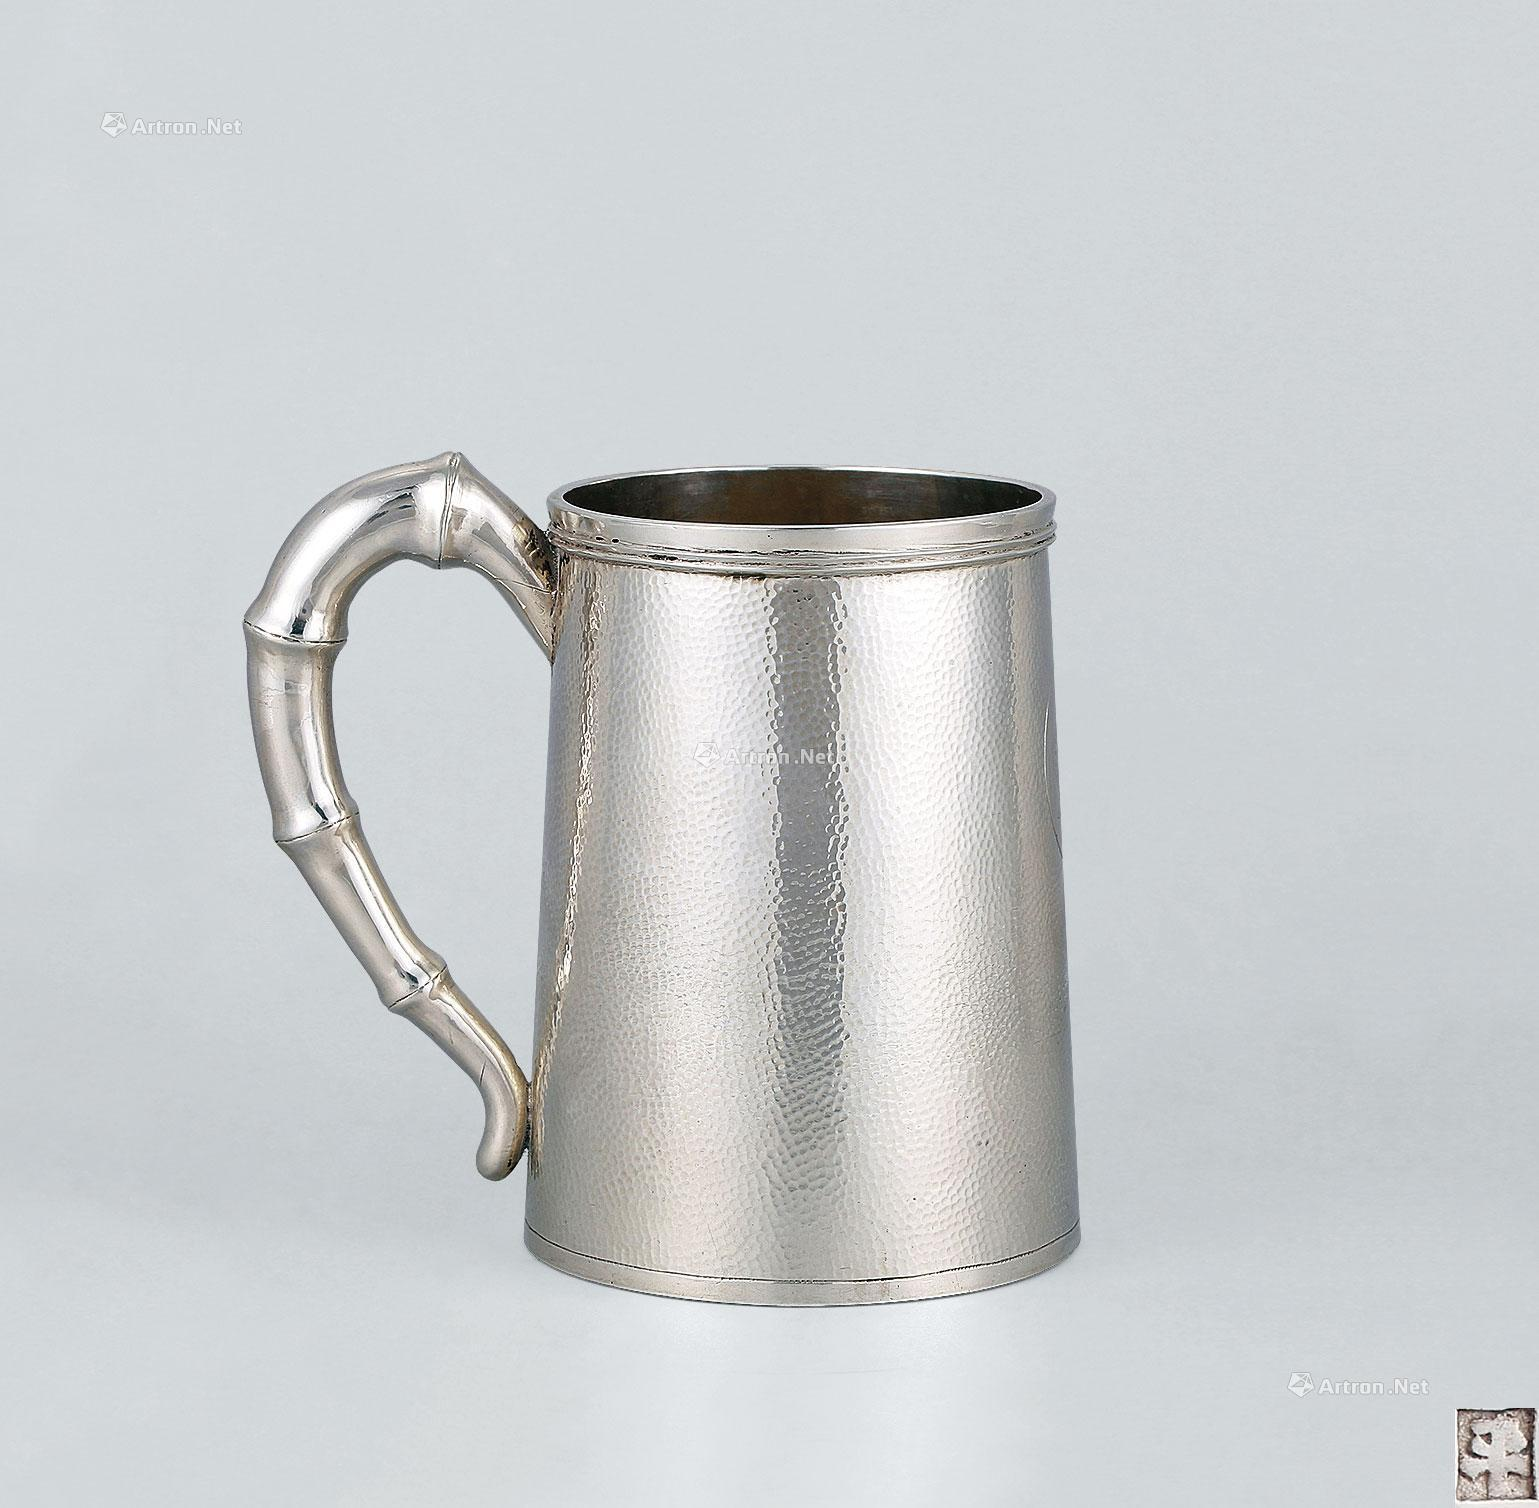cup: (236, 449, 1086, 1311)
